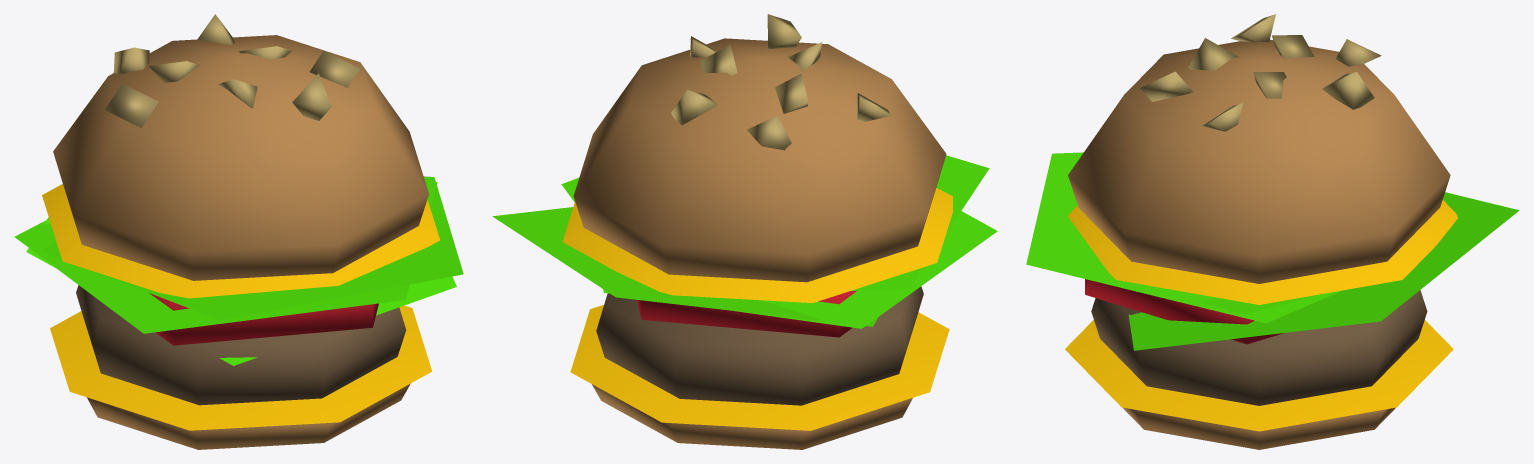
Rendered from BasuraBurguer.FBX.
The picture shows the model from 3 angles, left to right: view 1: azimuth 30°, elevation 25°; view 2: azimuth 150°, elevation 25°; view 3: azimuth 270°, elevation 25°; orthographic projection.
Visible parts, largest first — view 1: Object015; view 2: Object015; view 3: Object015.
Boxes of the visible parts, left/top/right/bottom form: Object015: left=14, top=14, right=463, bottom=449; Object015: left=492, top=14, right=997, bottom=449; Object015: left=1026, top=14, right=1519, bottom=449.
Size of the model in its own units: 46.69 by 39.77 by 52.46.
